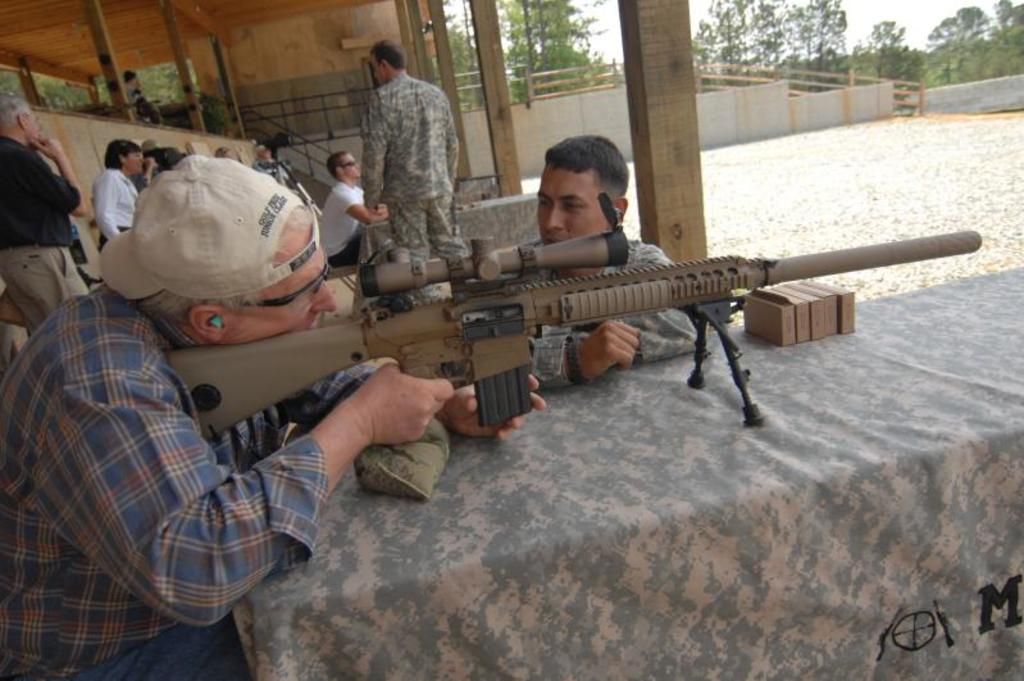Rifle: (165, 190, 984, 445)
